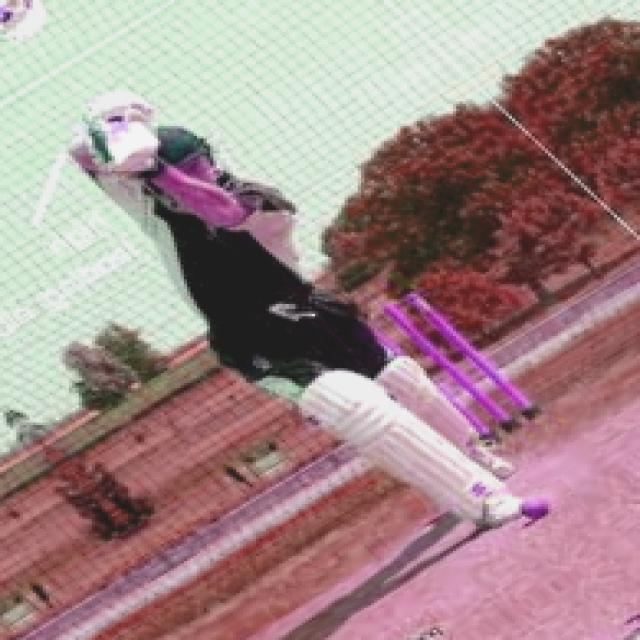bat: (88, 119, 160, 172)
toe: (122, 144, 161, 167)
